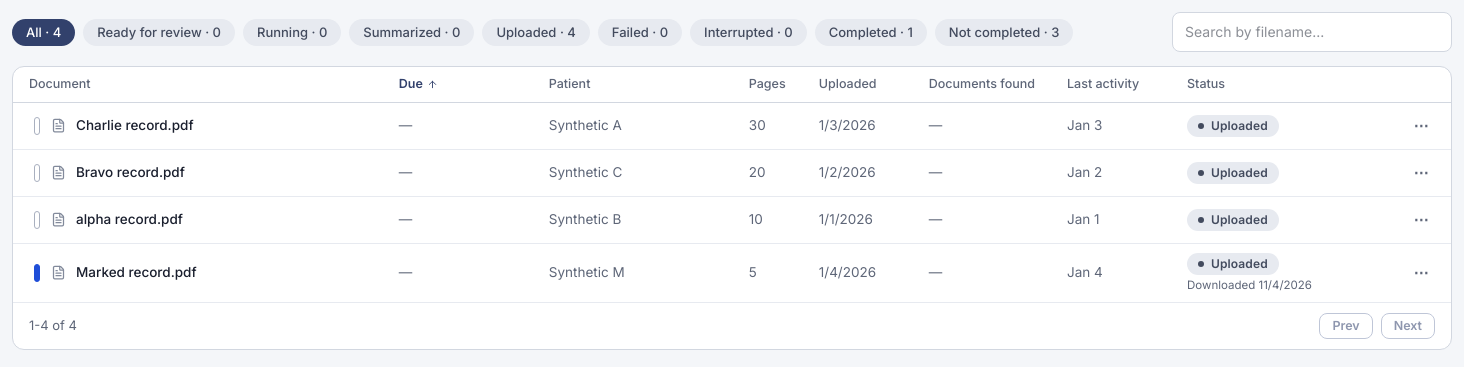
the Completed mark (a reviewer asked for it, 2026-11-05) › filters to the completed records, and to the ones still open
Step 1. Click the button "Completed · 1" → (871, 32), box [815,19,927,46]
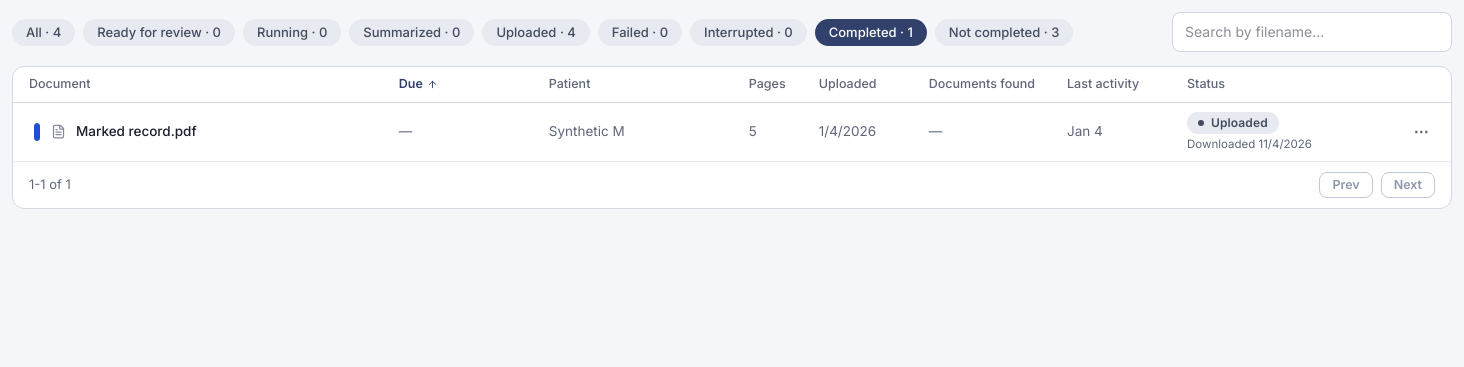
Step 2. Click the button "Not completed · 3" → (1004, 32), box [935,19,1073,46]
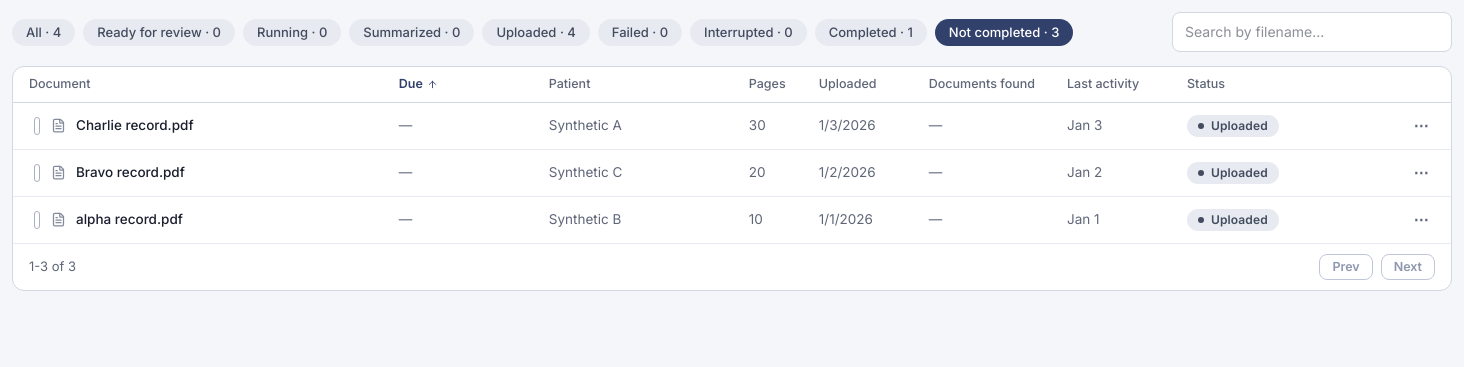
Check: the text "Marked record.pdf" is gone
